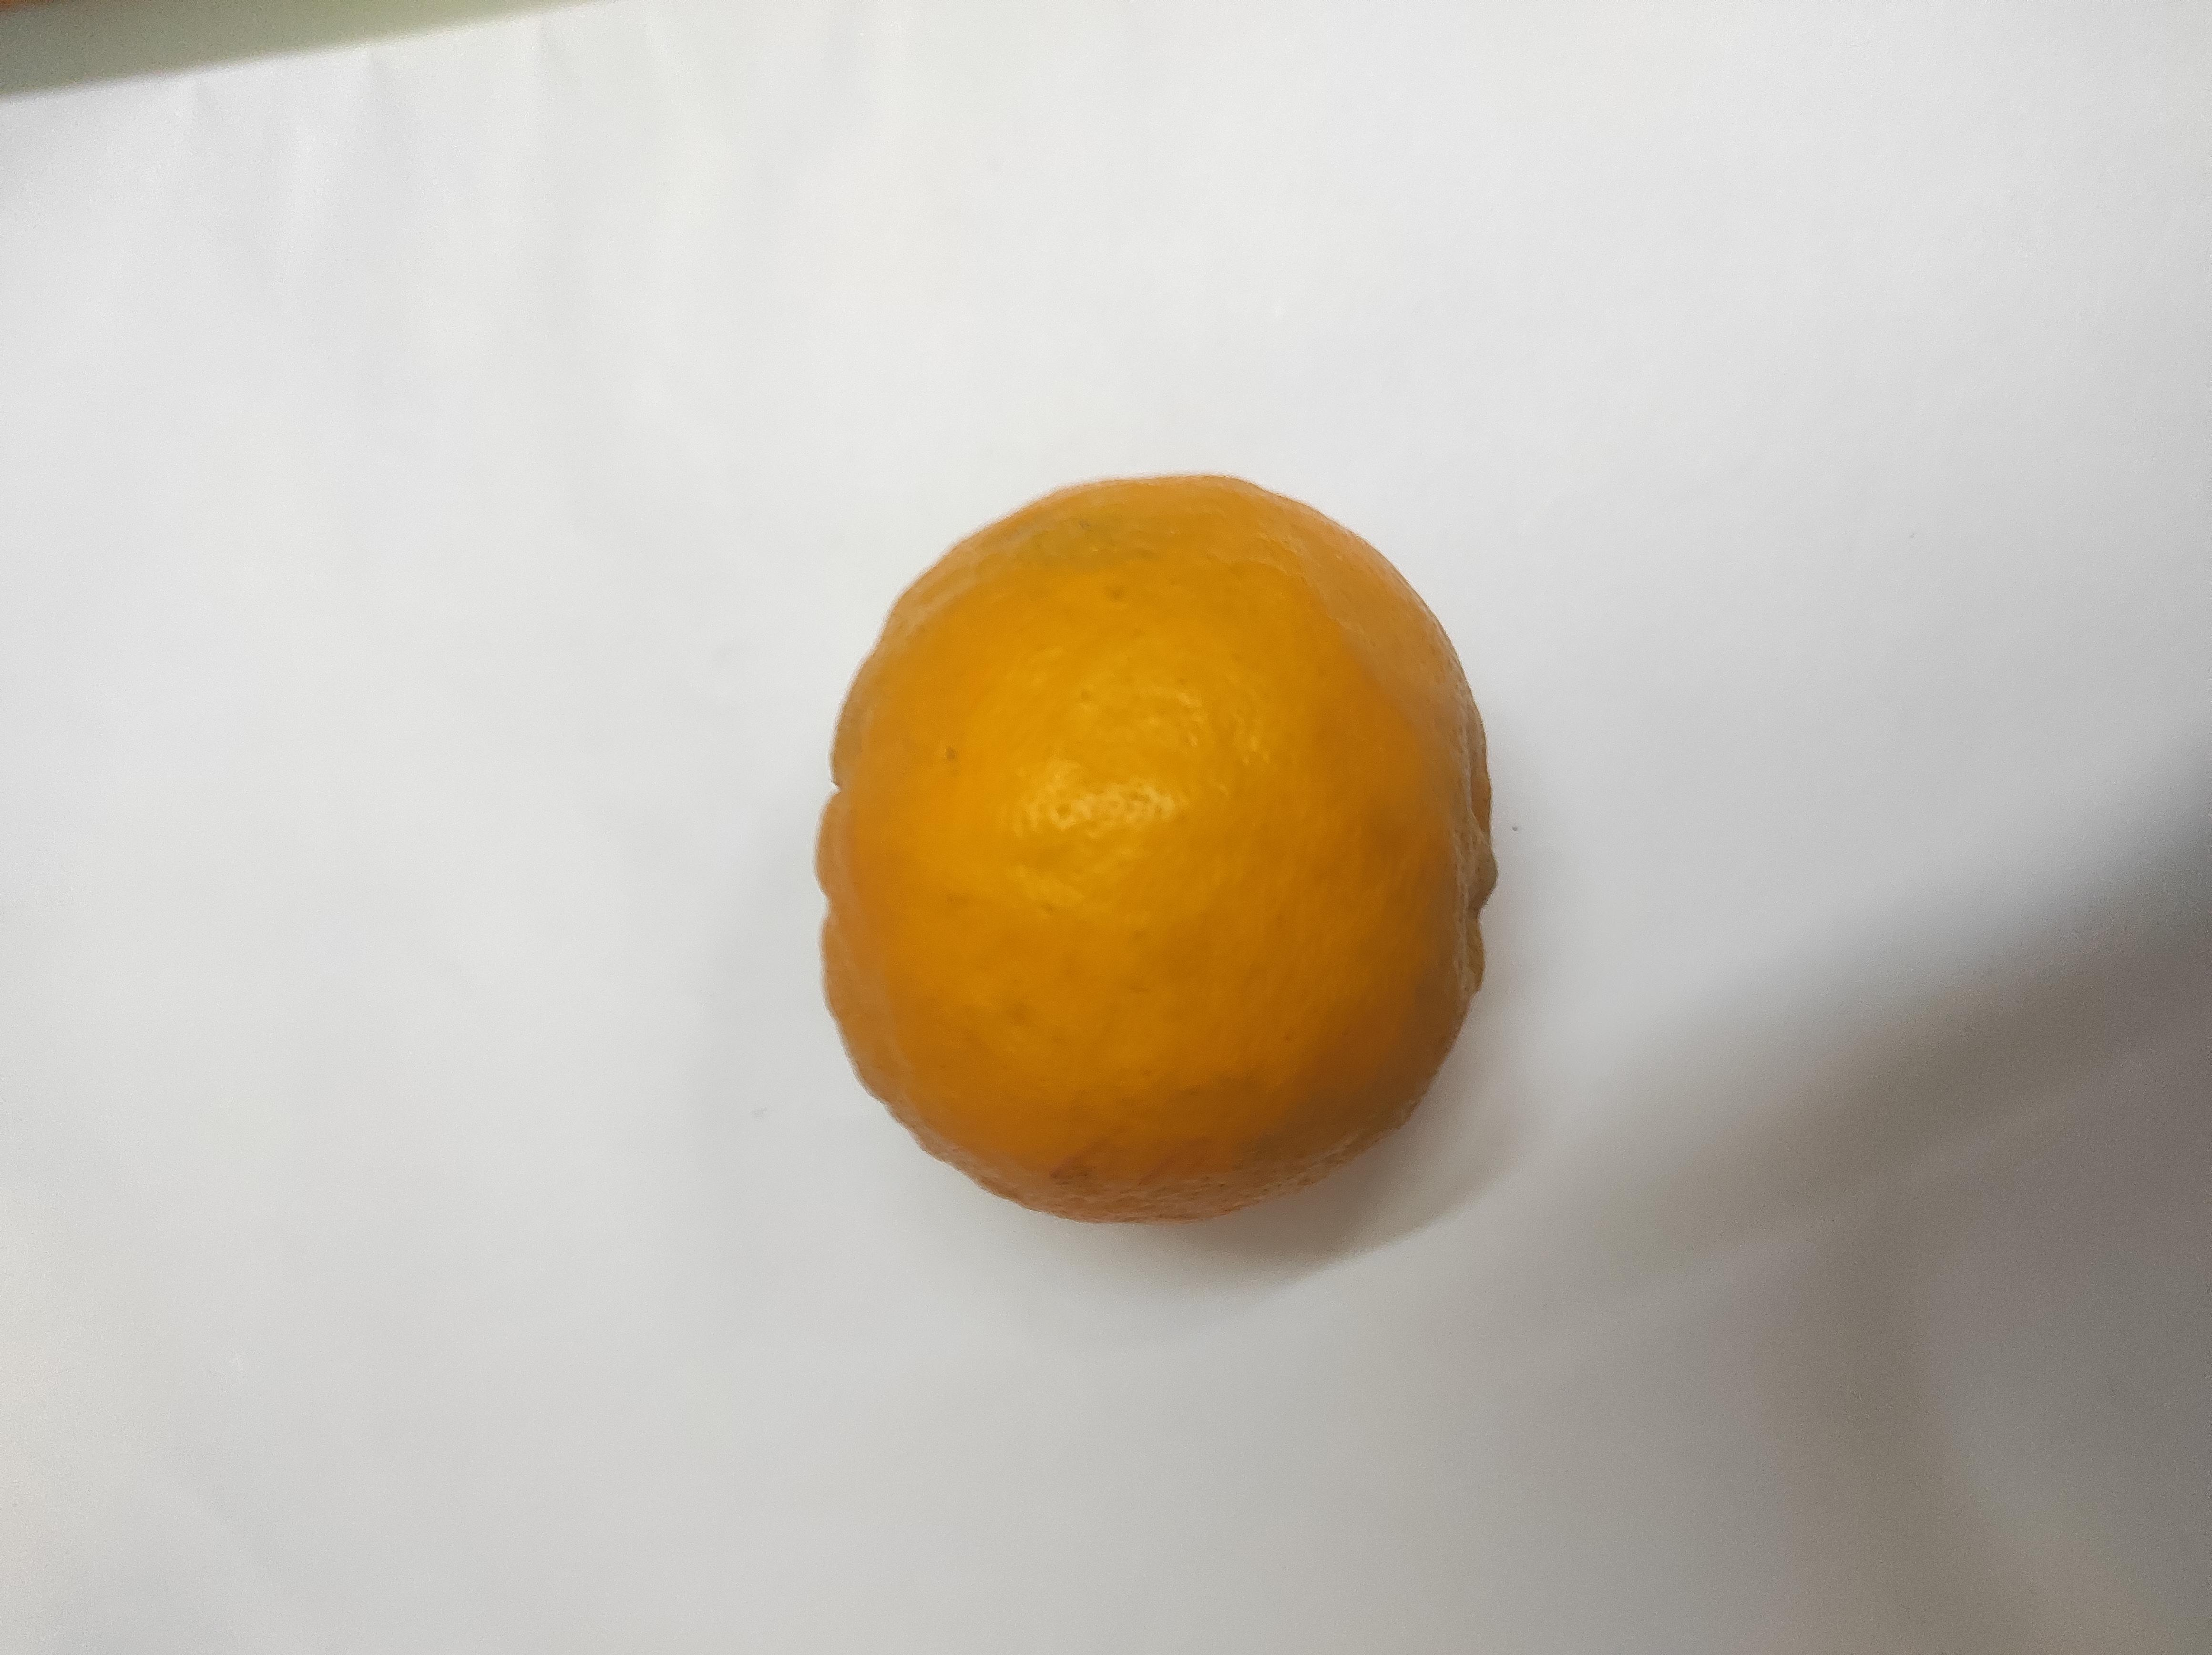Ripe: (829, 476, 1492, 1215)
